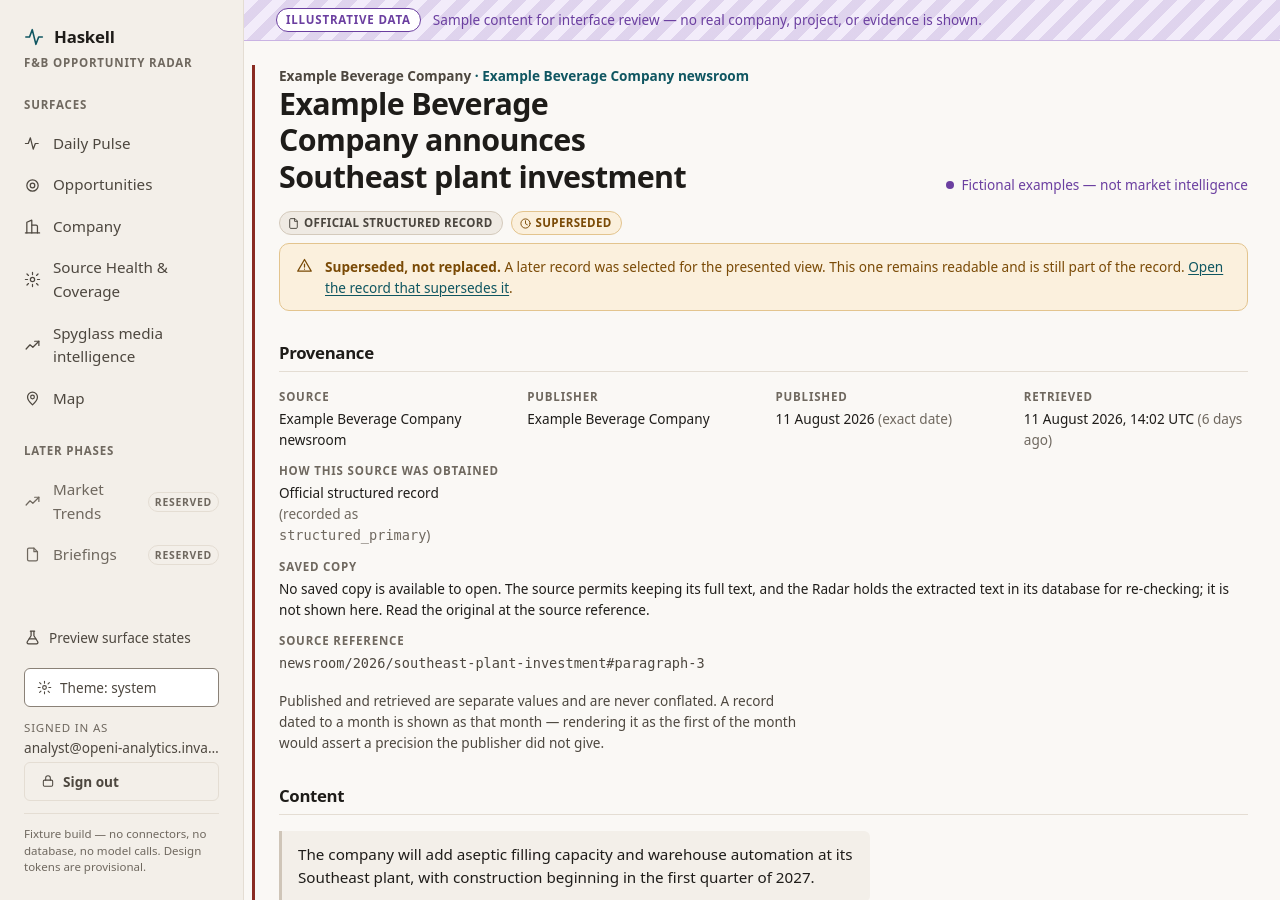
Scenario: corrections and supersession › links forward from the superseded record to the one that replaced it
Expected: the heading "Example Beverage Company announces Southeast plant investment" is shown, x1=279 y1=83 x2=686 y2=197
Click the link "Open the record that supersedes it" at (1206, 267), box x1=325 y1=257 x2=1223 y2=297
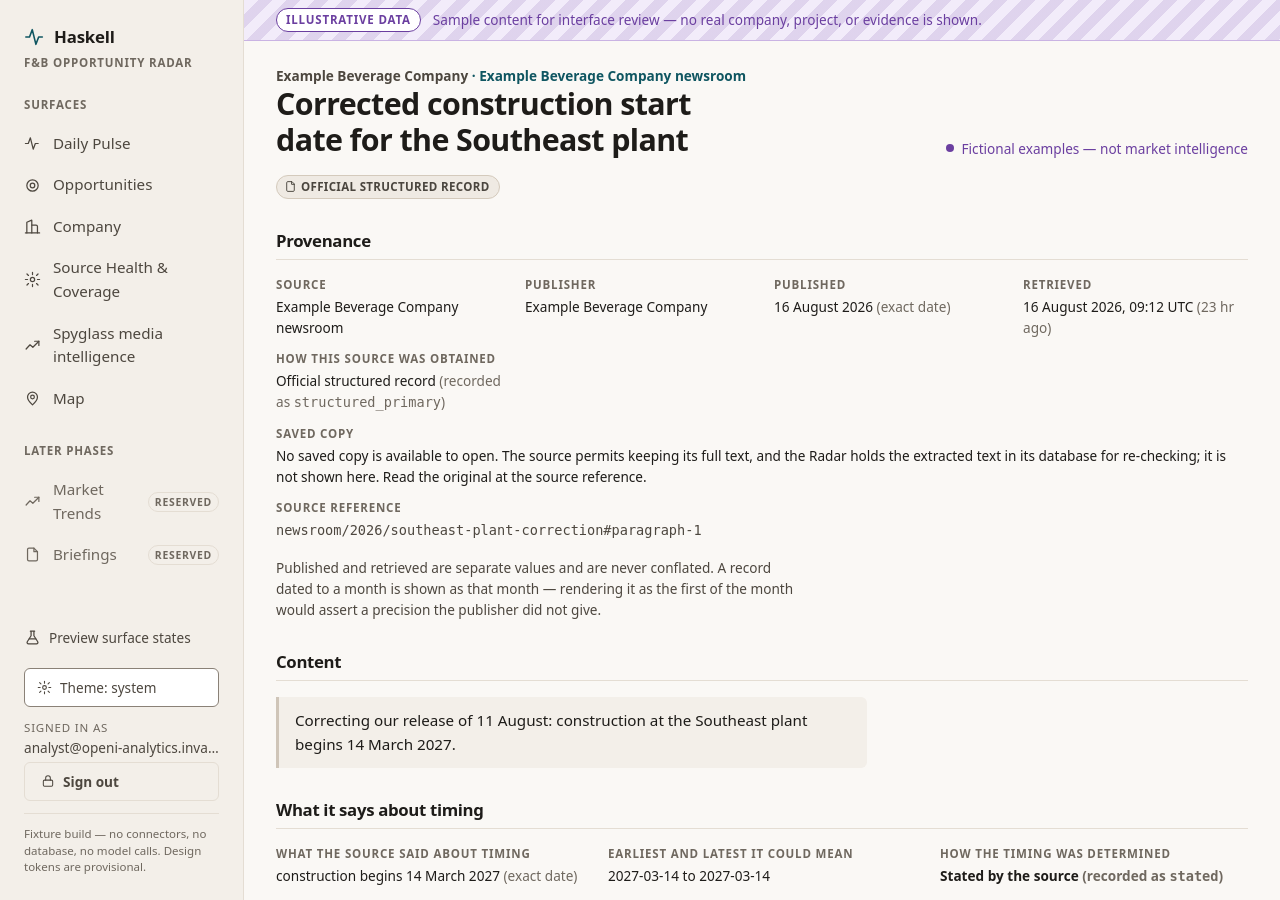
Now the heading "Corrected construction start date for the Southeast plant" is shown, box x1=276 y1=83 x2=691 y2=160
